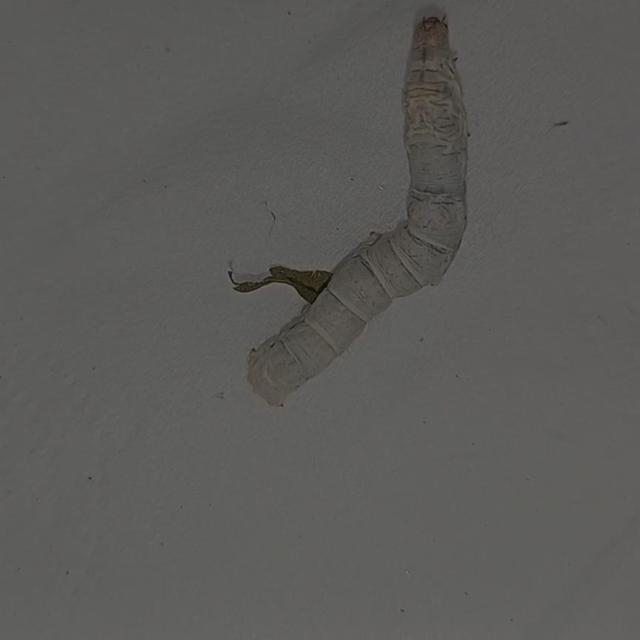Healthy: (233, 5, 495, 425)
